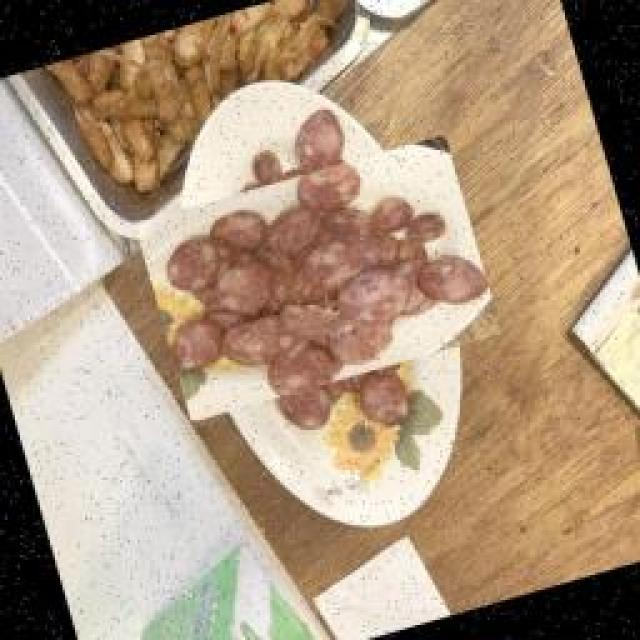chinese_sausage: (155, 113, 483, 443)
